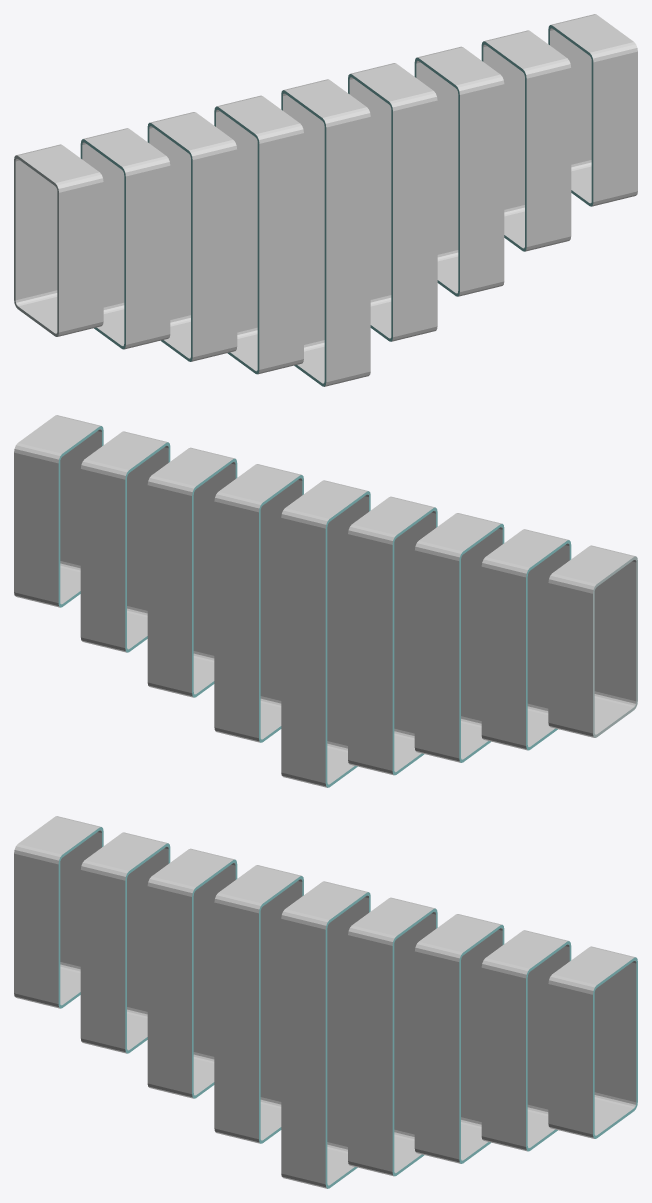
Rendered from W_M_maze_DecoLight_L0.fbx.
3 views of the same model, one above another, from view 1: azimuth 30°, elevation 25°; view 2: azimuth 150°, elevation 25°; view 3: azimuth 330°, elevation 25° (orthographic).
Parts seen in each view (by area): view 1: W_M_maze_DecoLight_L0; view 2: W_M_maze_DecoLight_L0; view 3: W_M_maze_DecoLight_L0.
Boxes of the visible parts, x1=… form: W_M_maze_DecoLight_L0: x1=14, y1=14, x2=637, y2=386; W_M_maze_DecoLight_L0: x1=14, y1=415, x2=637, y2=787; W_M_maze_DecoLight_L0: x1=14, y1=816, x2=637, y2=1188.
Bounding box in the file's own units: 2.45 × 0.331 × 1.09.
